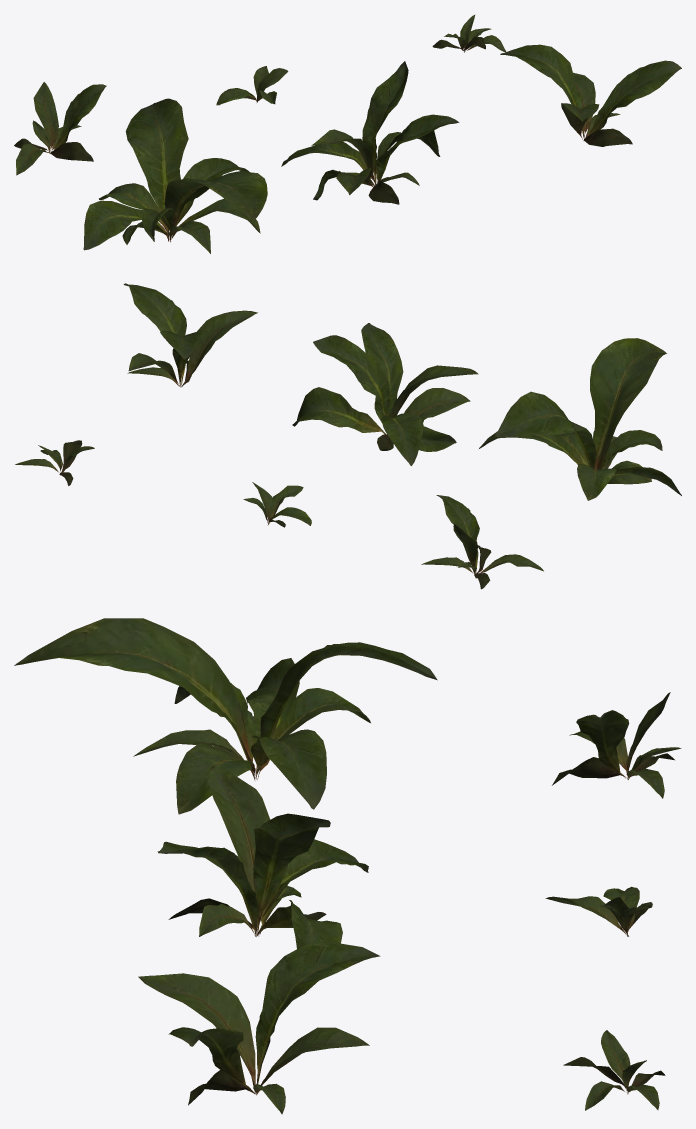
The model's file is anthurium_botany_01.glb.
3 renders of one model, top to bottom at view 1: azimuth 30°, elevation 25°; view 2: azimuth 150°, elevation 25°; view 3: azimuth 270°, elevation 25°, orthographic. The views are drawn at different scales.
Visible parts, largest first — view 1: anthurium_botany_01_a, anthurium_botany_01_b, anthurium_botany_01_c, anthurium_botany_04_d, anthurium_botany_05_e, anthurium_botany_06_f; view 2: anthurium_botany_01_a, anthurium_botany_01_b, anthurium_botany_01_c, anthurium_botany_04_d, anthurium_botany_05_e, anthurium_botany_06_f; view 3: anthurium_botany_01_a, anthurium_botany_01_b, anthurium_botany_01_c, anthurium_botany_04_d, anthurium_botany_06_f, anthurium_botany_05_e.
Part boxes in pixels (bbox=[...]): anthurium_botany_01_a: bbox=[83, 98, 267, 253]; anthurium_botany_01_b: bbox=[281, 61, 459, 204]; anthurium_botany_01_c: bbox=[500, 44, 681, 146]; anthurium_botany_04_d: bbox=[14, 82, 106, 175]; anthurium_botany_05_e: bbox=[216, 66, 288, 105]; anthurium_botany_06_f: bbox=[432, 14, 506, 52]; anthurium_botany_01_a: bbox=[479, 338, 681, 500]; anthurium_botany_01_b: bbox=[292, 323, 478, 465]; anthurium_botany_01_c: bbox=[123, 283, 257, 387]; anthurium_botany_04_d: bbox=[421, 495, 543, 589]; anthurium_botany_05_e: bbox=[243, 482, 311, 527]; anthurium_botany_06_f: bbox=[15, 440, 94, 485]; anthurium_botany_01_a: bbox=[14, 618, 437, 814]; anthurium_botany_01_b: bbox=[157, 763, 368, 948]; anthurium_botany_01_c: bbox=[138, 942, 380, 1114]; anthurium_botany_04_d: bbox=[552, 692, 681, 798]; anthurium_botany_06_f: bbox=[563, 1030, 665, 1110]; anthurium_botany_05_e: bbox=[545, 886, 652, 936].
Size of the model in its own units: 2.79 by 0.4981 by 1.8.
1 material, 1 textured.
